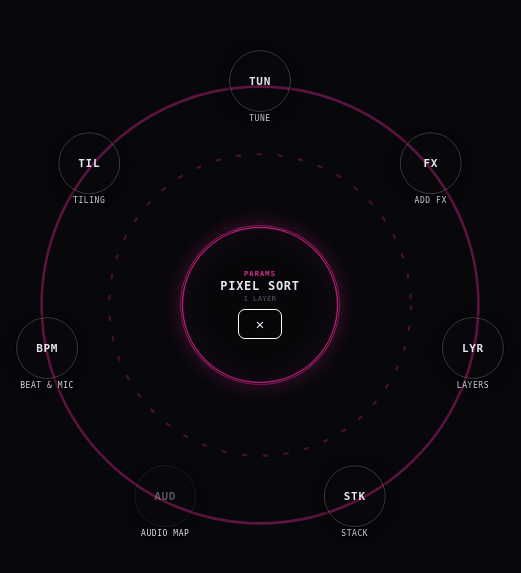
Scenario: ParamWheel — keyboard › activates the highlighted slot with Enter
Click the menu item "TUN".
click(260, 81)  # box [229, 50, 291, 112]
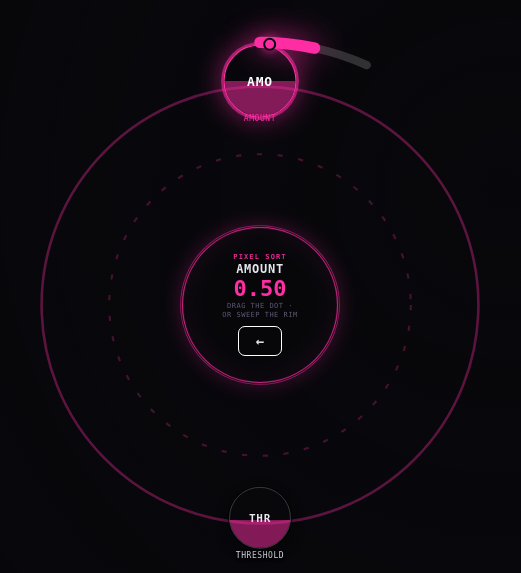
Now the text "0.50" is shown, box [234, 278, 286, 300]
